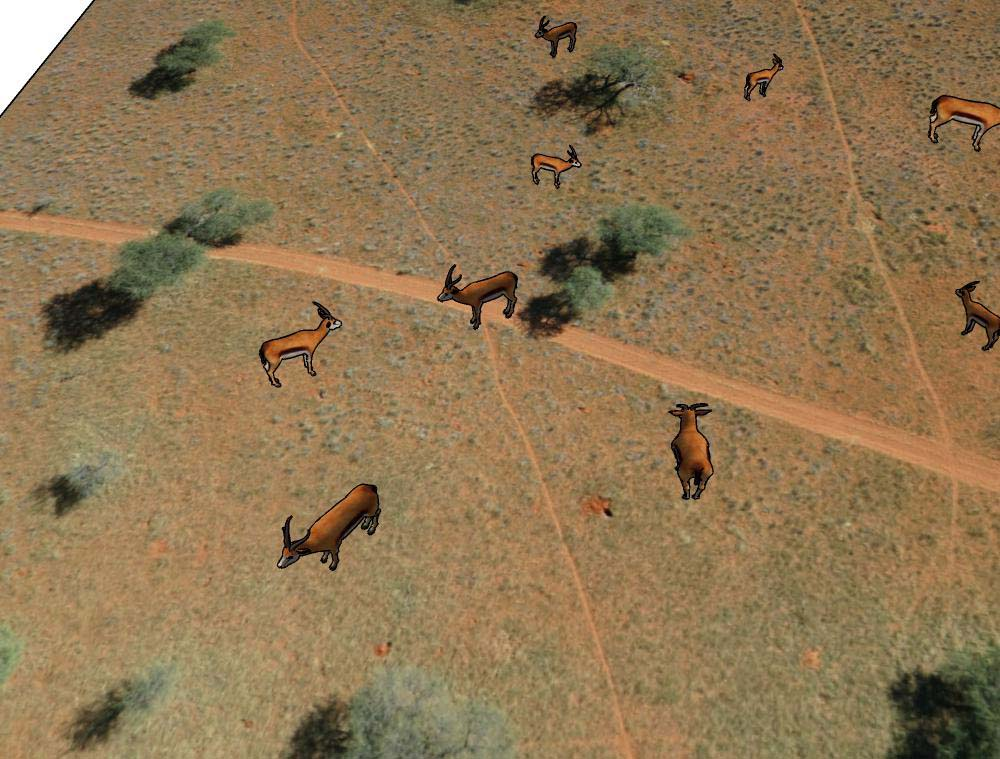springbok: (276, 478, 387, 572), (256, 300, 339, 387), (435, 259, 522, 331), (666, 399, 724, 504), (924, 90, 1000, 151), (950, 273, 1000, 355), (529, 141, 581, 191), (740, 52, 787, 100), (534, 11, 579, 59)
